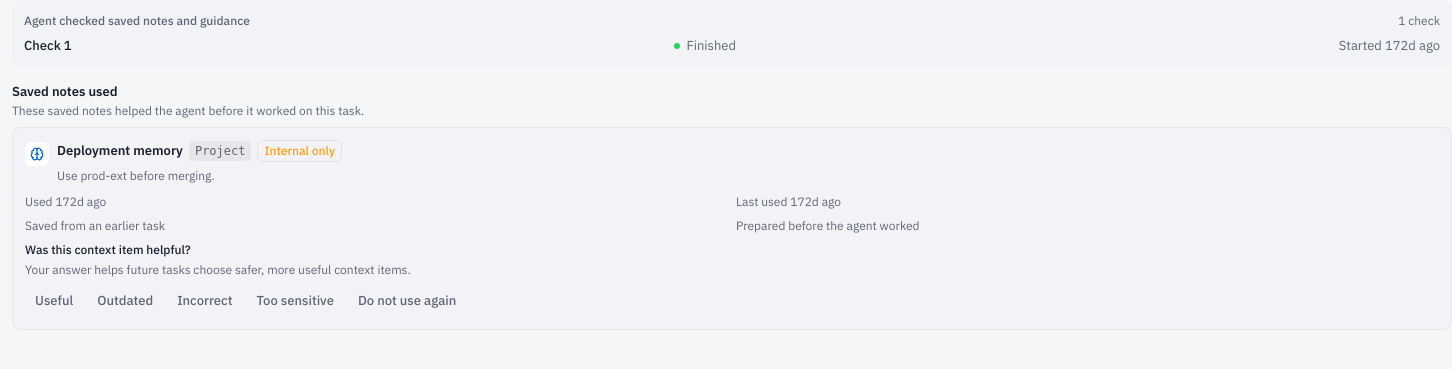
Test: ContextTab › announces beginner-safe feedback save failures
The width and height of the screenshot is (1452, 369).
Expected: the text "Deployment memory" is shown, [57, 142, 183, 159]
Click the button "Useful": [54, 301] box [25, 285, 83, 317]
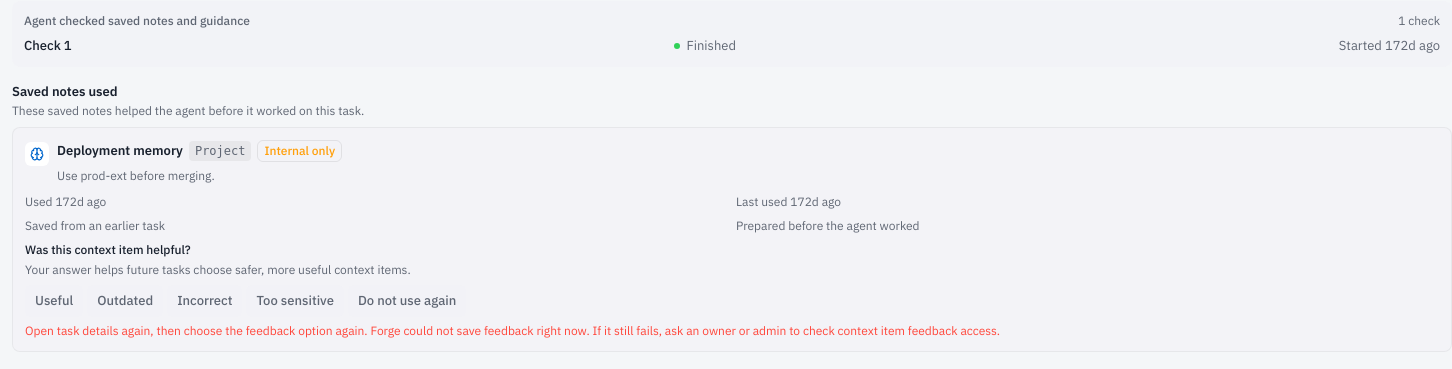
Expected: the message does not show "HTTP 500", [25, 323, 1000, 338]
Result: the message shows "Open task details again, then choose the feedback option again" at [25, 323, 1000, 338]
Result: the message shows "Forge could not save feedback right now" at [25, 323, 1000, 338]
